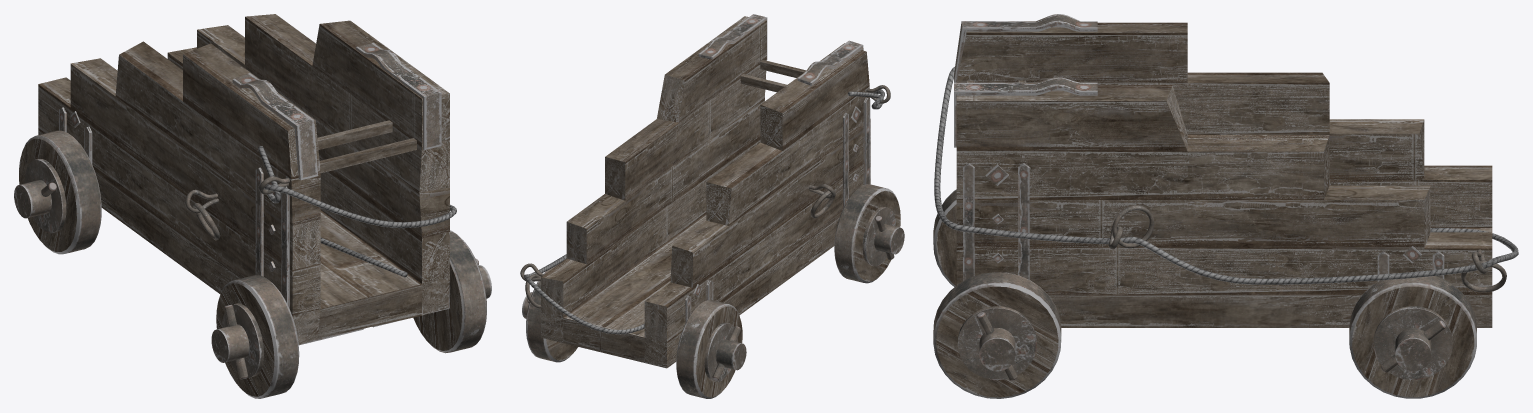
The model's file is SM_Cannon03.FBX.
3 views of the same model, side by side, from view 1: azimuth 30°, elevation 25°; view 2: azimuth 150°, elevation 25°; view 3: azimuth 270°, elevation 25° (orthographic). The views are drawn at different scales.
Parts seen in each view (by area): view 1: SM_Cannon03; view 2: SM_Cannon03; view 3: SM_Cannon03.
Boxes of the visible parts, x1,y1,x2,y2 form: SM_Cannon03: [14, 14, 491, 398]; SM_Cannon03: [520, 14, 904, 398]; SM_Cannon03: [933, 14, 1518, 398].
Bounding box in the file's own units: 139 × 255 × 141.
